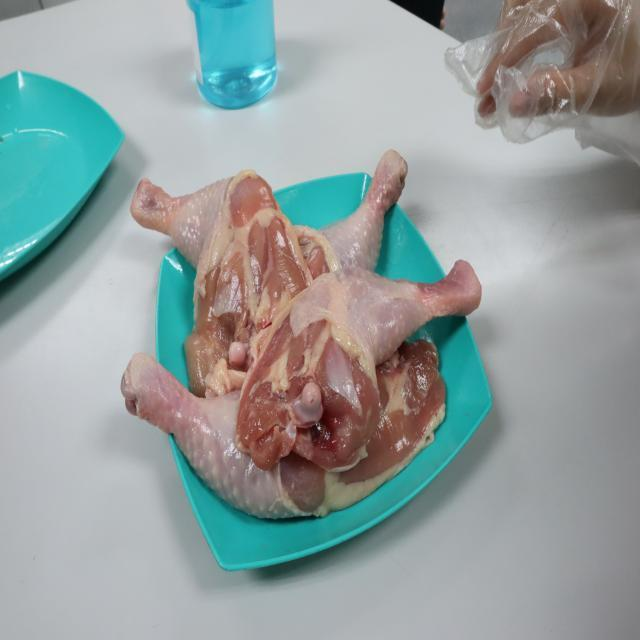quater: (124, 352, 450, 516), (246, 256, 505, 444), (126, 158, 290, 316), (232, 152, 414, 288)
